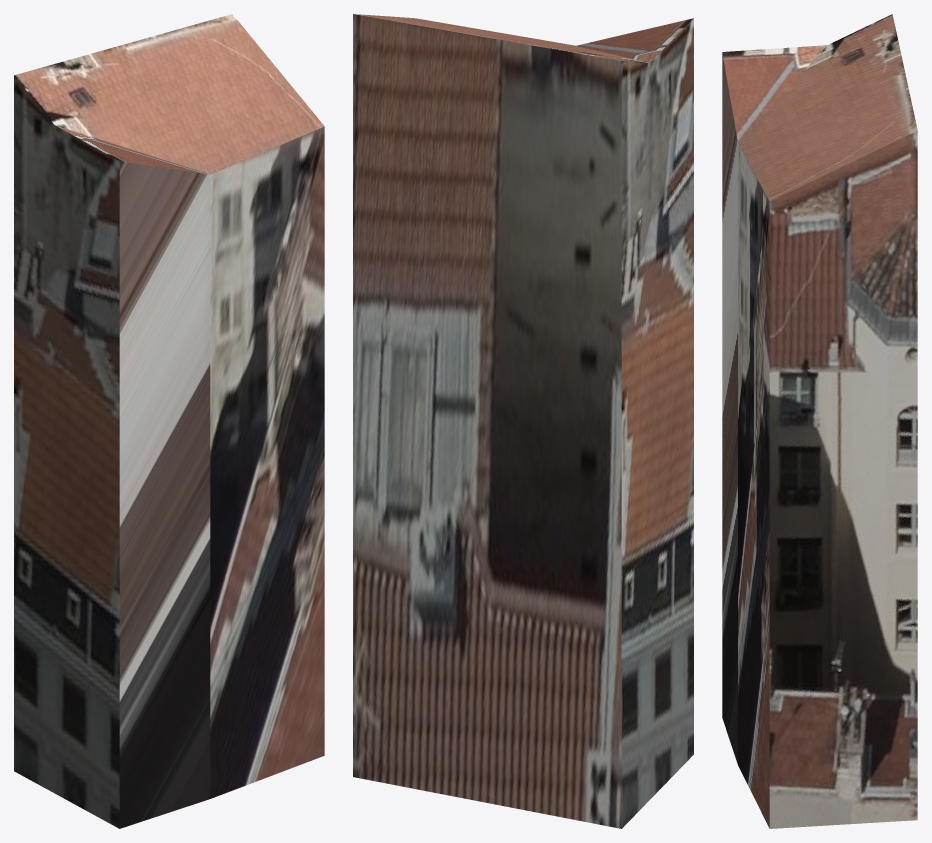
The picture shows the model from 3 angles, left to right: view 1: azimuth 30°, elevation 25°; view 2: azimuth 150°, elevation 25°; view 3: azimuth 270°, elevation 25°; orthographic projection. The views are drawn at different scales.
Parts seen in each view (by area): view 1: Z_UP; view 2: Z_UP; view 3: Z_UP.
Part boxes in pixels (<box>): Z_UP: <box>14,14,324,828</box>; Z_UP: <box>353,14,693,828</box>; Z_UP: <box>722,14,917,828</box>.
Size of the model in its own units: 9.36 by 25 by 6.39.
2 materials, 1 textured.
